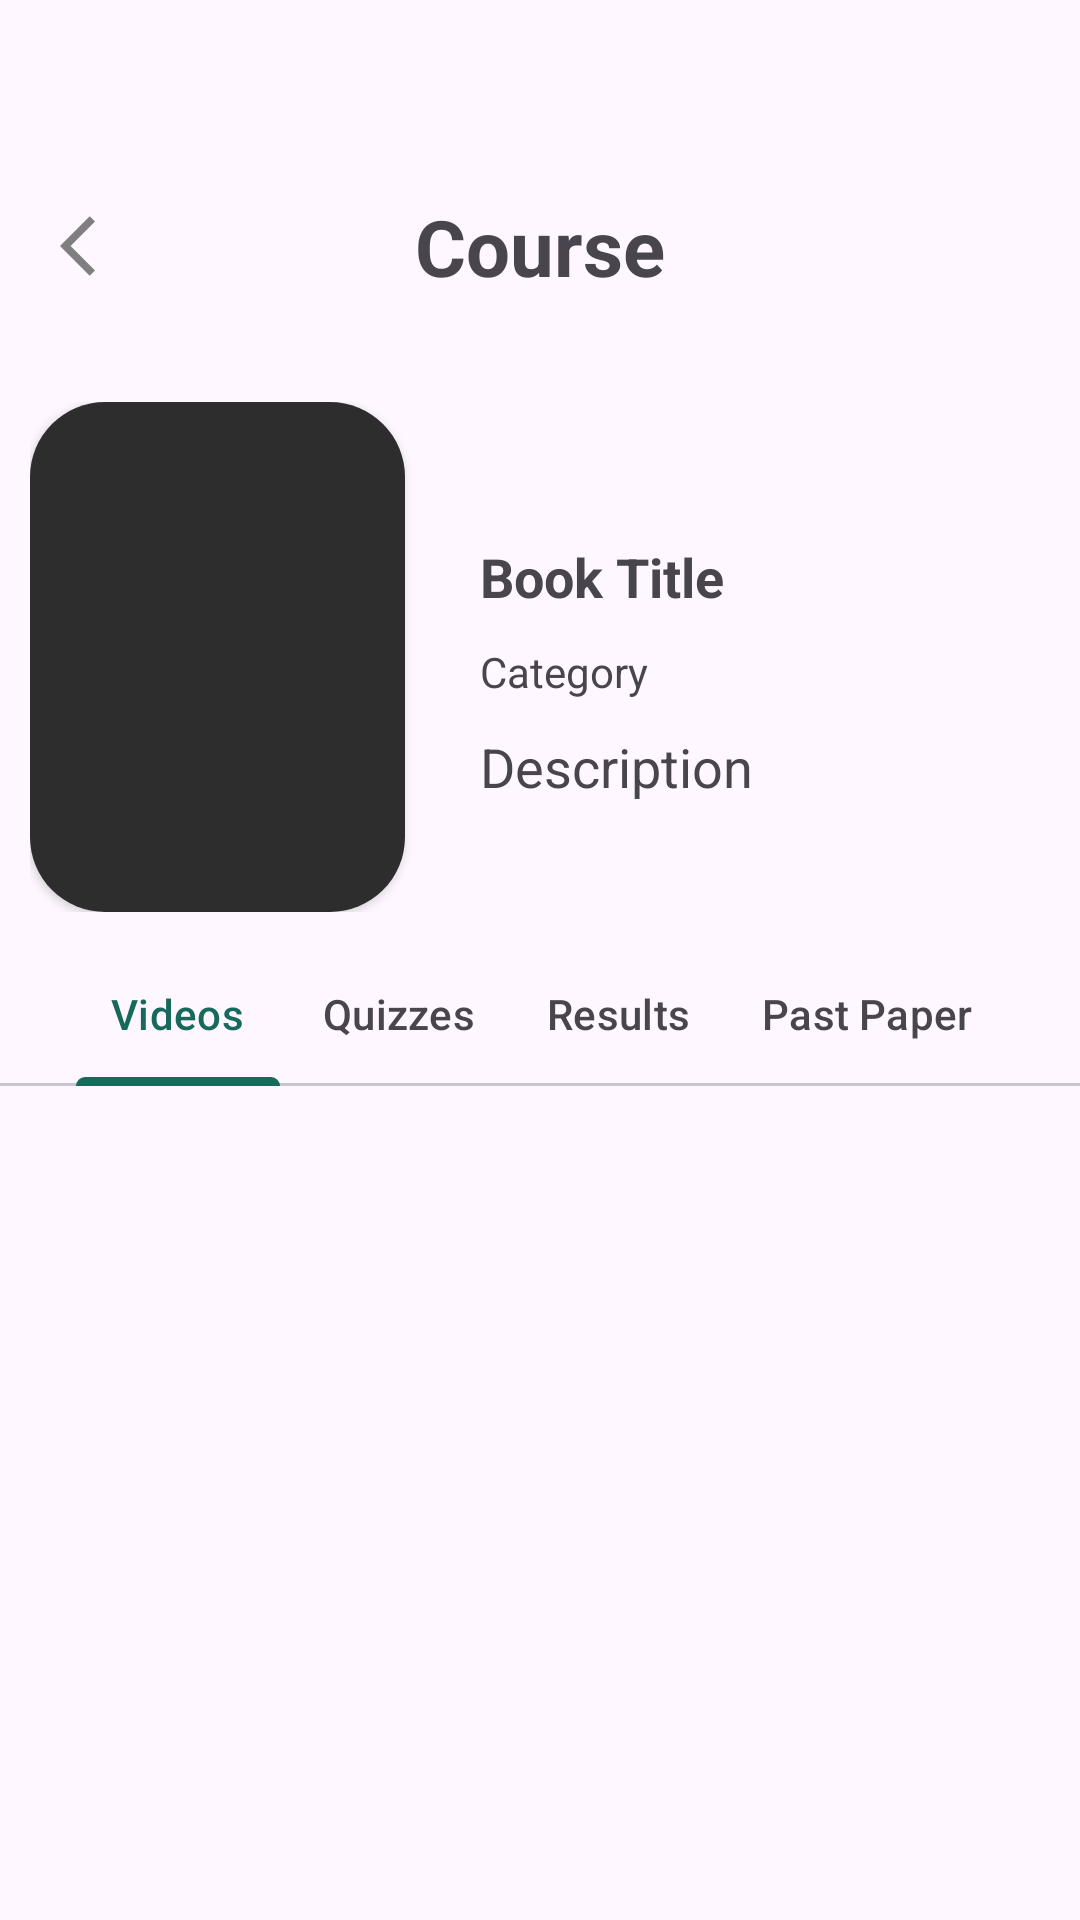

Where icons sit on this 1080*1920 app screen, as (x1, y1, x2, y2):
arrow back: (60, 216, 95, 276)
